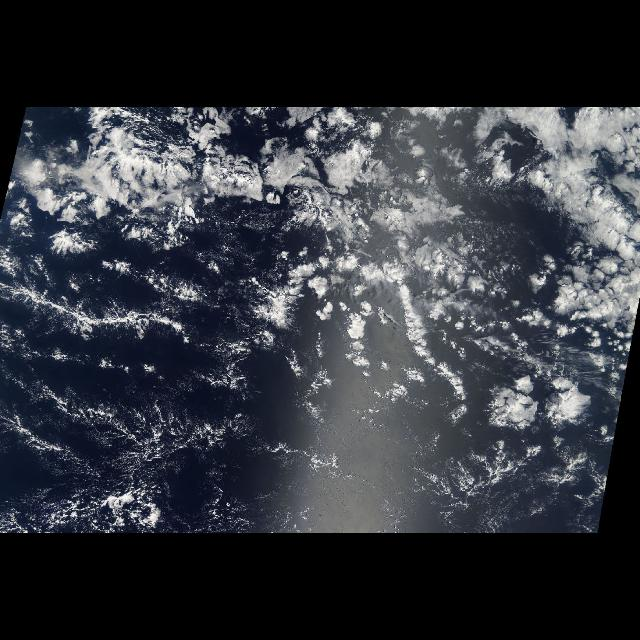Fish: (328, 234, 478, 436)
Flower: (454, 356, 608, 456)
Gravel: (23, 373, 291, 521)
